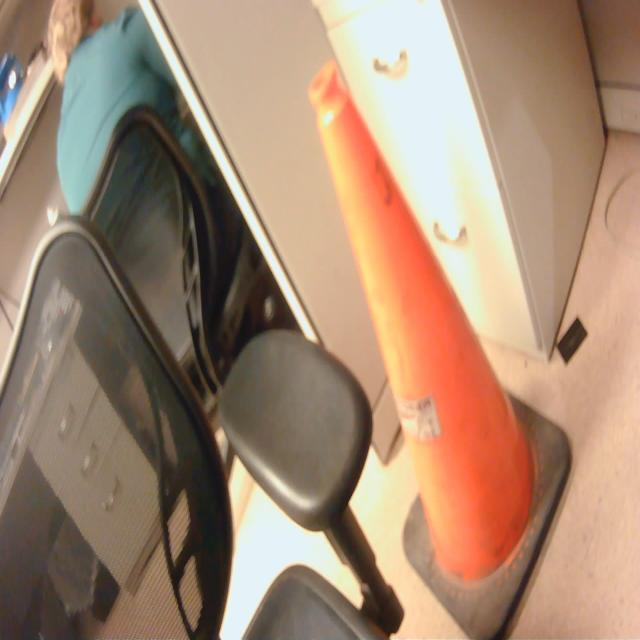traffic cone: (305, 55, 578, 640)
